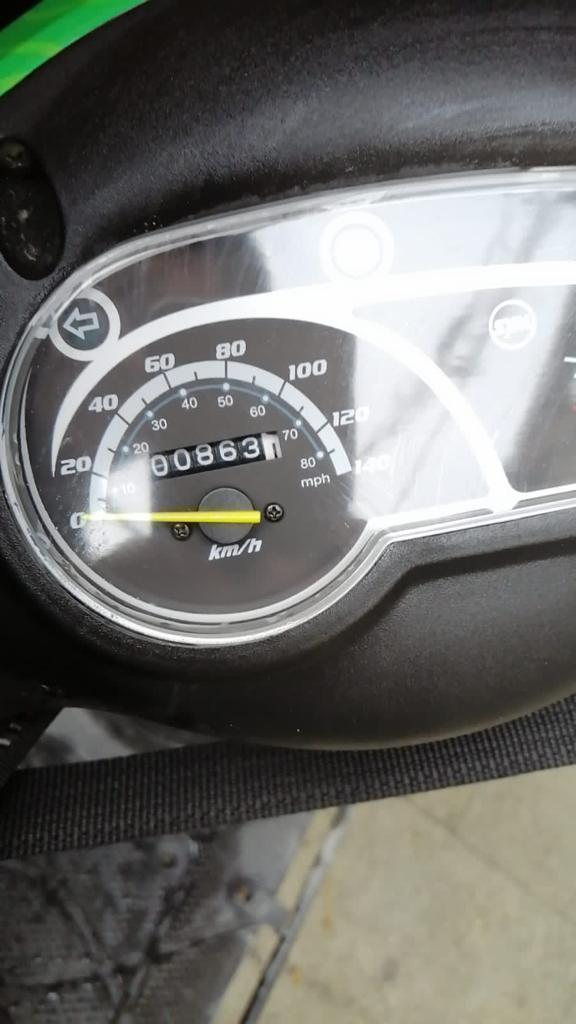0: (172, 447, 192, 472), (149, 453, 168, 478), (141, 441, 149, 452)
1: (270, 438, 279, 463)
3: (241, 436, 260, 459)
6: (217, 438, 238, 462)
8: (194, 442, 214, 466)
odometer: (142, 429, 284, 484)
